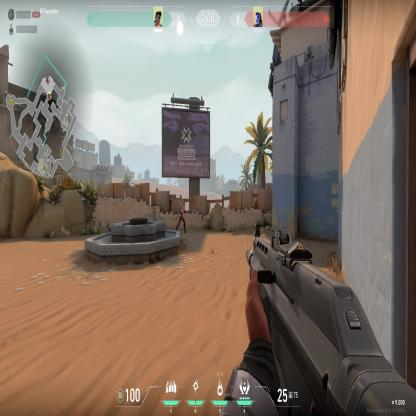enemy: (175, 202, 187, 233)
